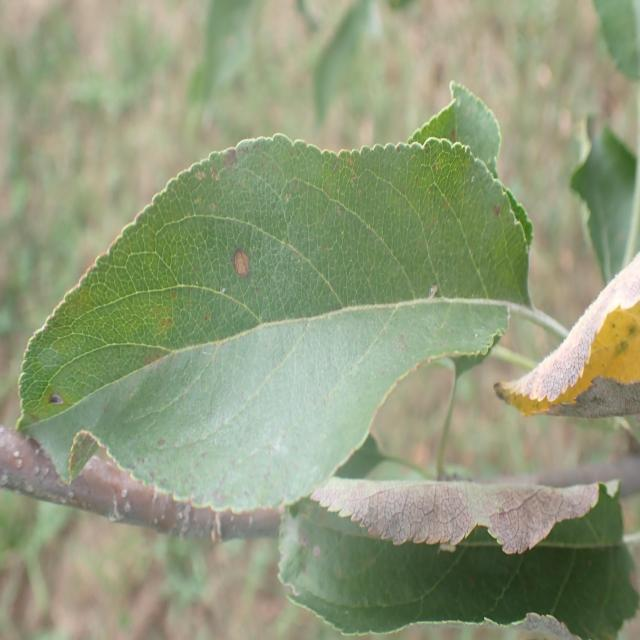frog-eye-leaf-spot: (16, 133, 534, 514)
